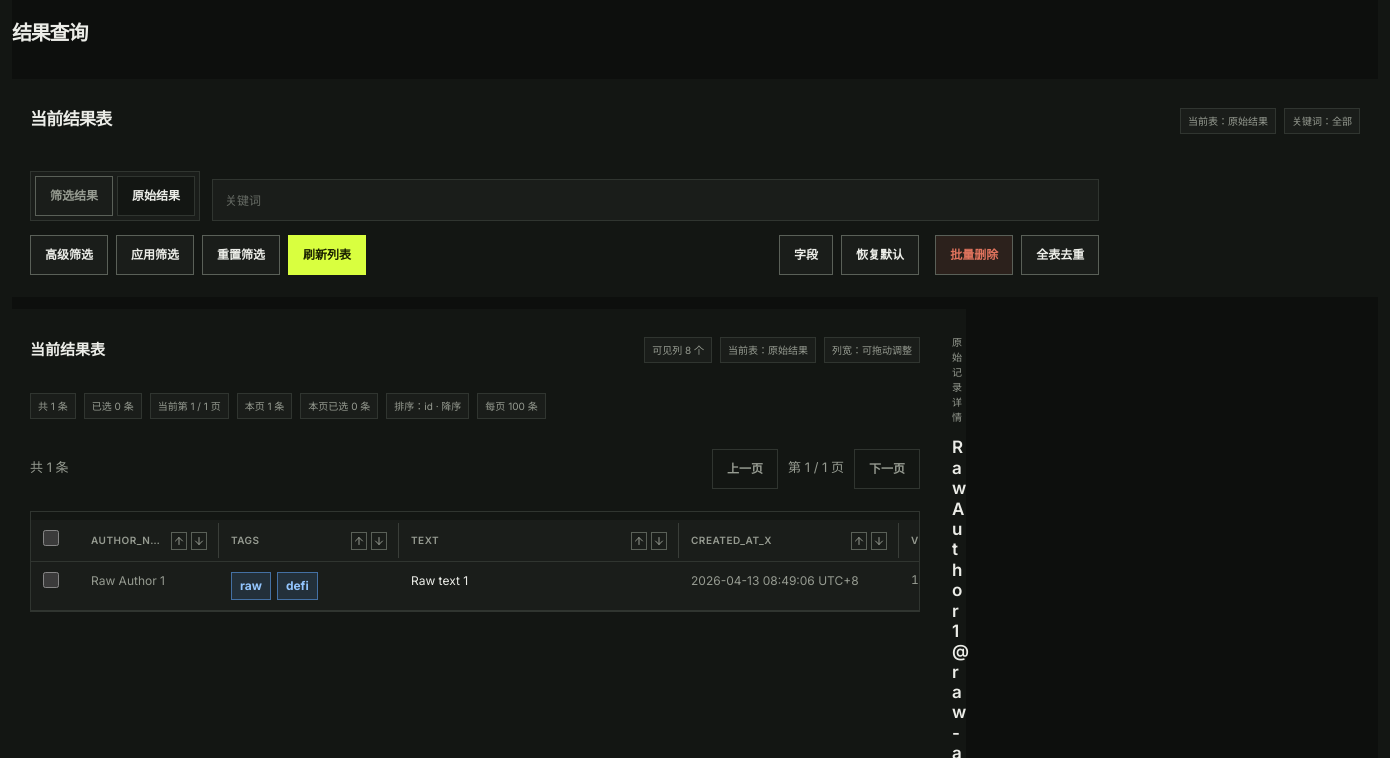
Test: ResultsPage › renders detail content after selecting a row checkbox
Expected: the text "Raw text 1" is shown, [411,573,468,588]
Click the button "筛选结果" at (74, 196), box [35,176,113,216]
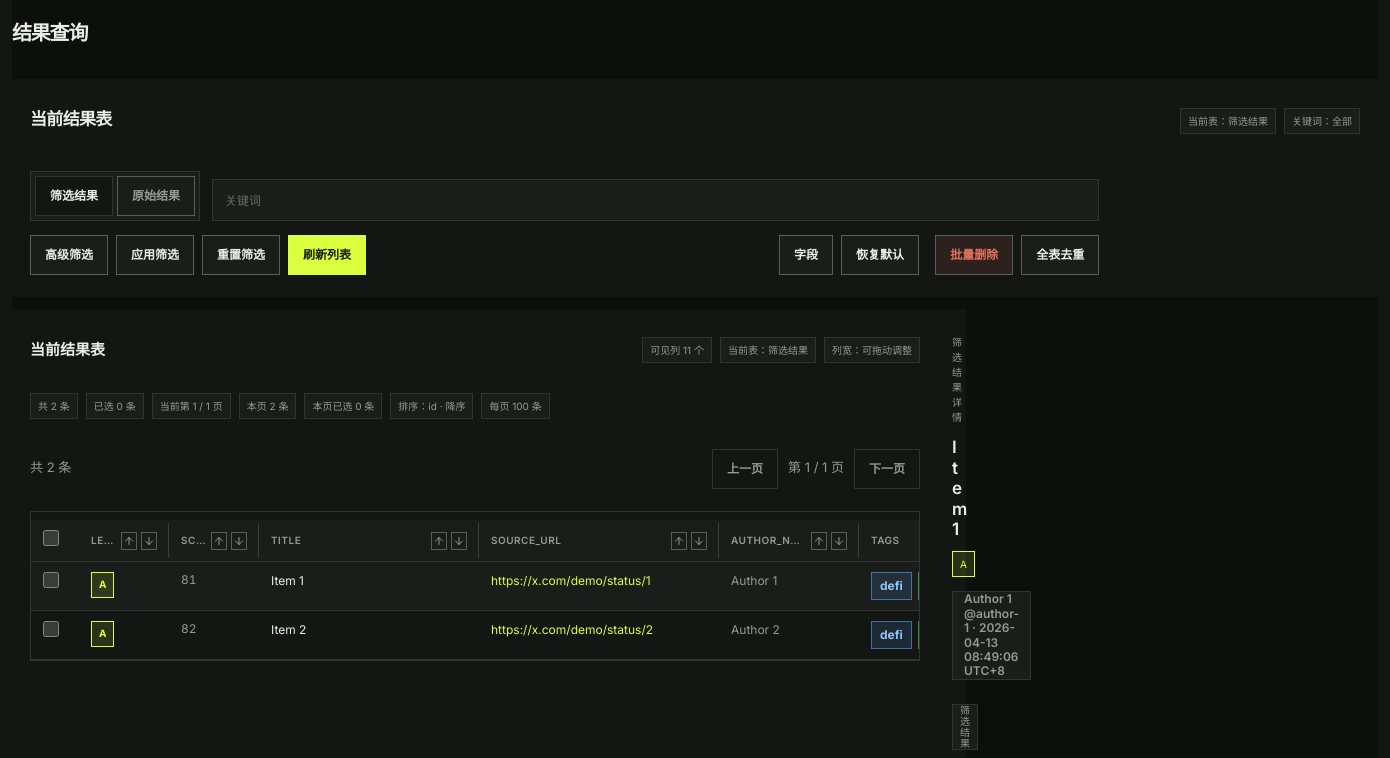
Expected: the checkbox named "select-item-2" is shown
Click the checkbox named "select-item-2" at (51, 629), box [43,621,59,637]
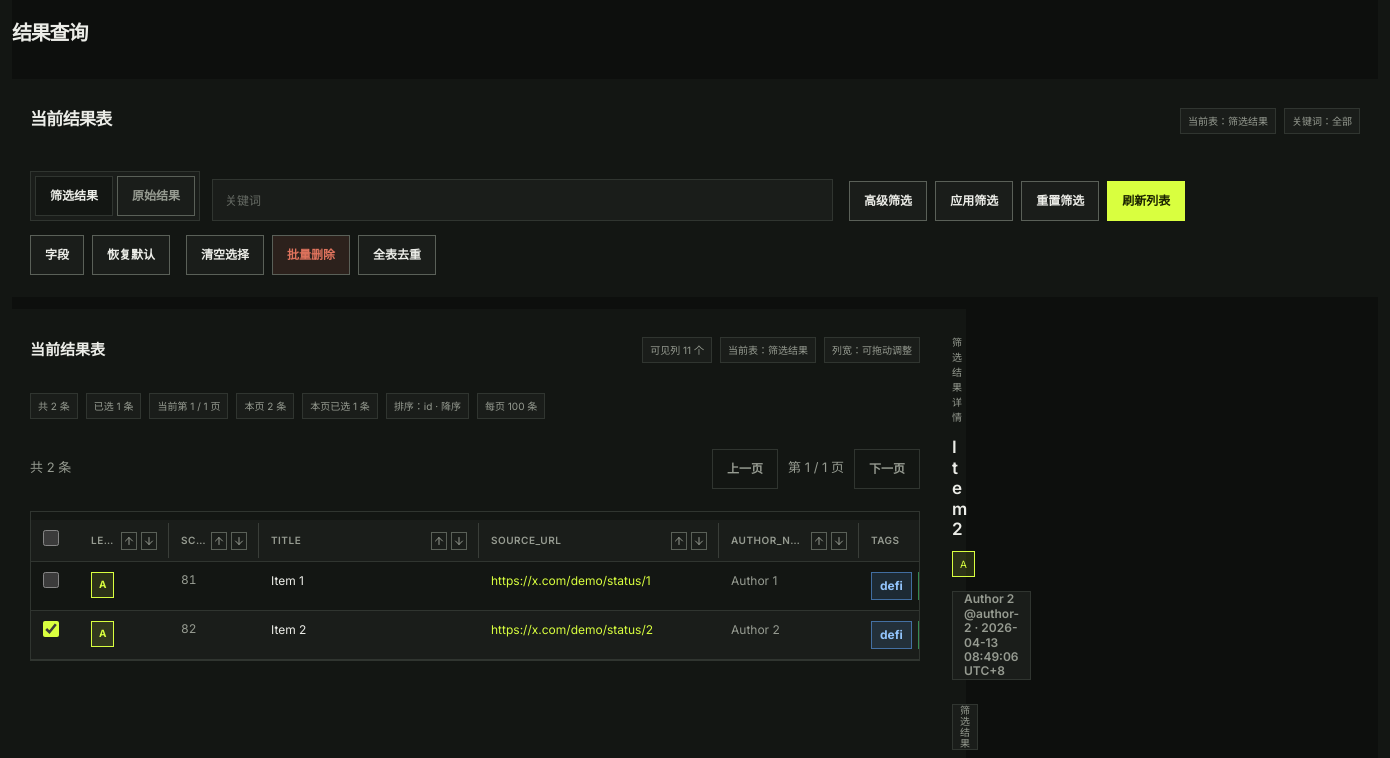
Expected: the text "Author 2 @author-2 · 2026-04-13 08:49:06 UTC+8" is shown, [952,591,1031,680]
